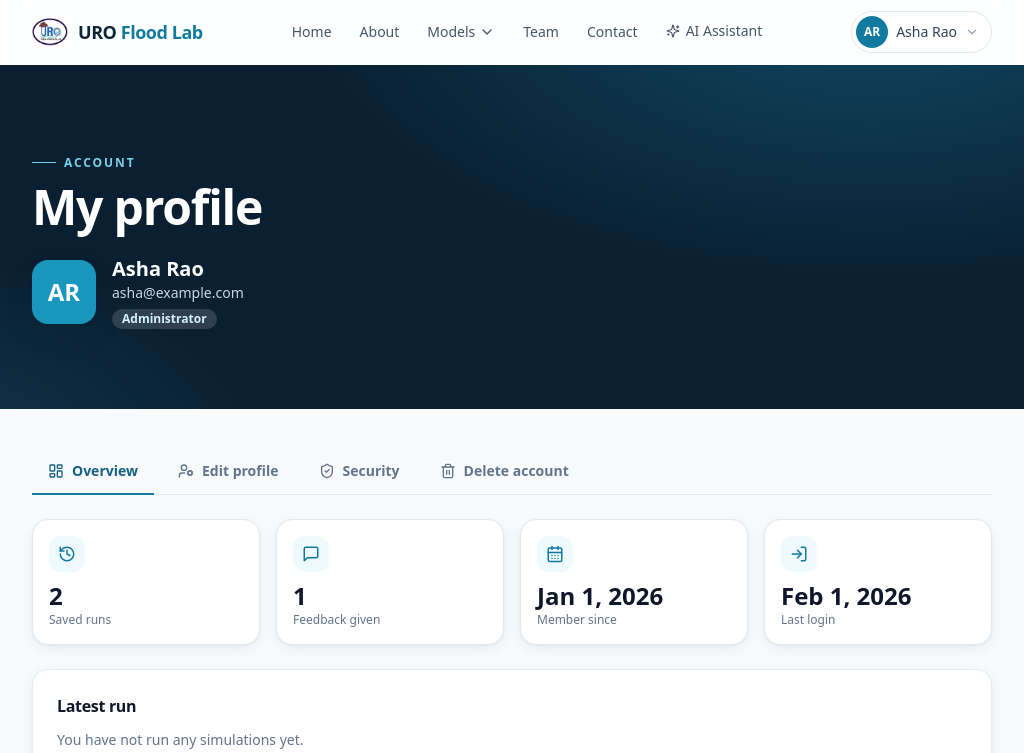
Test: logged-in admin › shows the profile page with account details and tabs
Expected: the heading "My profile" is shown, x1=32 y1=174 x2=262 y2=238
Expected: the text "asha@example.com" is shown, x1=112 y1=282 x2=244 y2=302
Step 1. Click the tab "Security" → (359, 472), box x1=302 y1=448 x2=416 y2=494
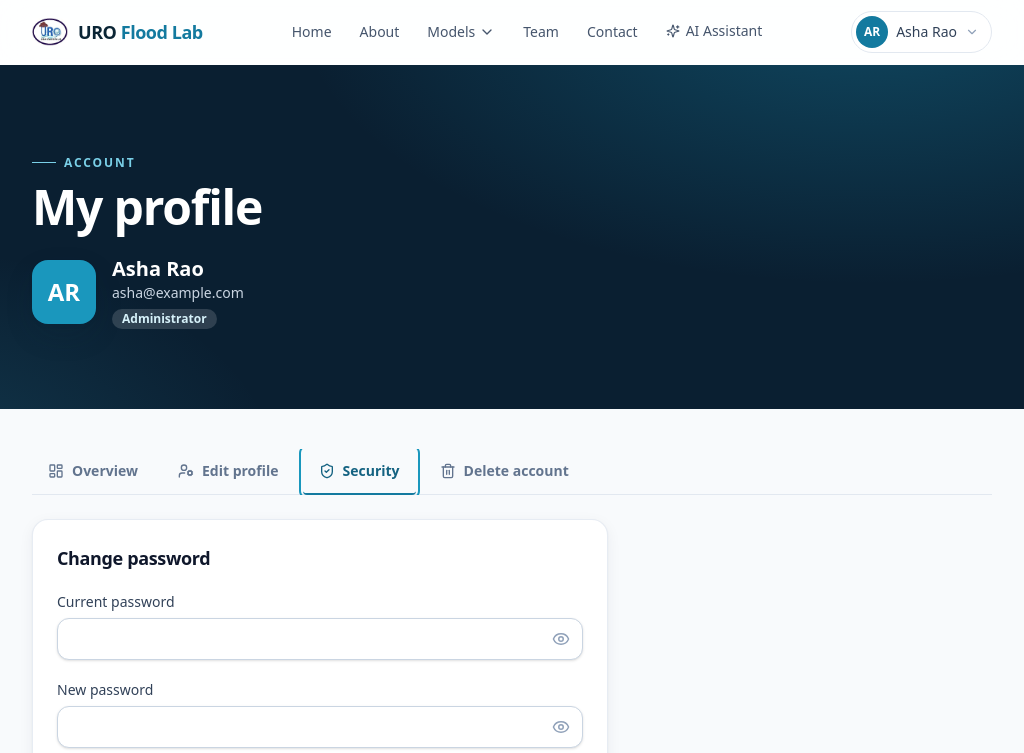
Now the heading "Change password" is shown, box x1=57 y1=546 x2=210 y2=570
Step 2. Click the tab "Edit profile" → (228, 472), box x1=162 y1=448 x2=294 y2=494
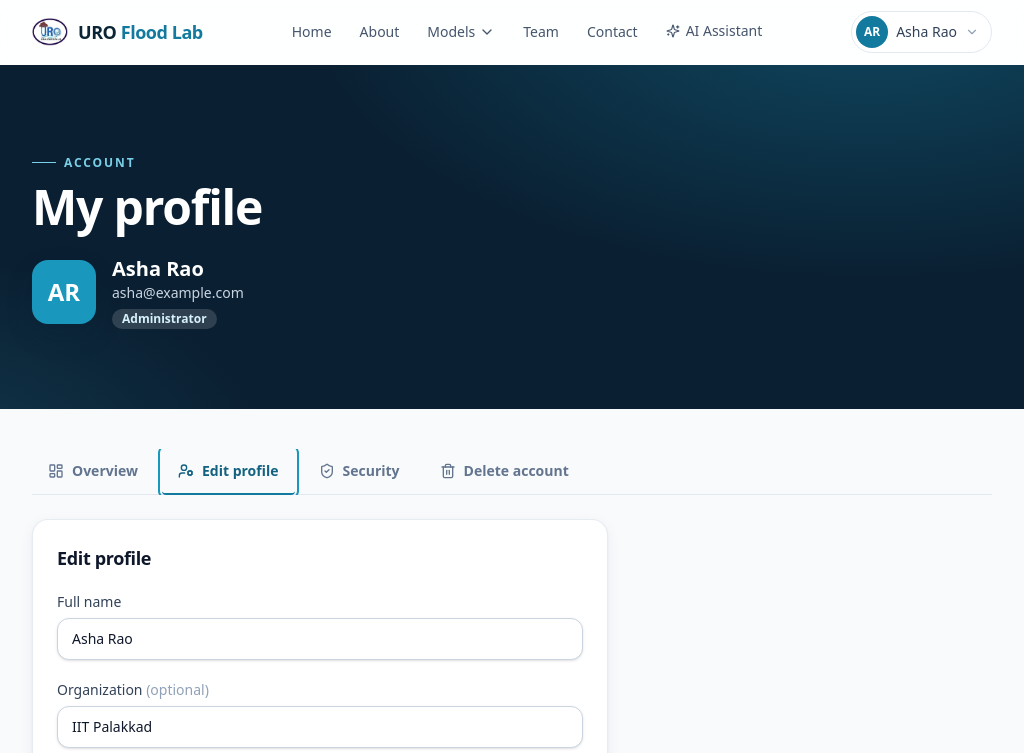
Now the field labelled "Full name" holds "Asha Rao", box x1=57 y1=618 x2=583 y2=660
